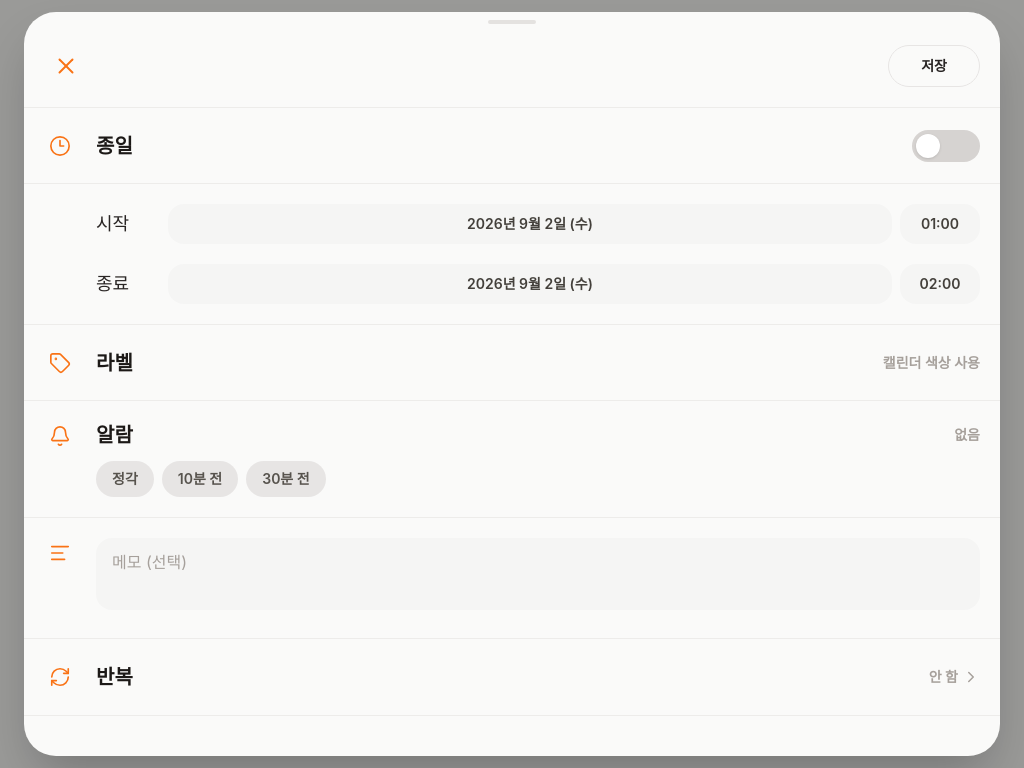
Test case: EventFormModal › 일반 일정의 반복 전환 확인을 취소하면 저장하지 않는다
(page scrolled)
Click the text "안 함": click(943, 677) top-left (929, 667), bottom-right (958, 687)
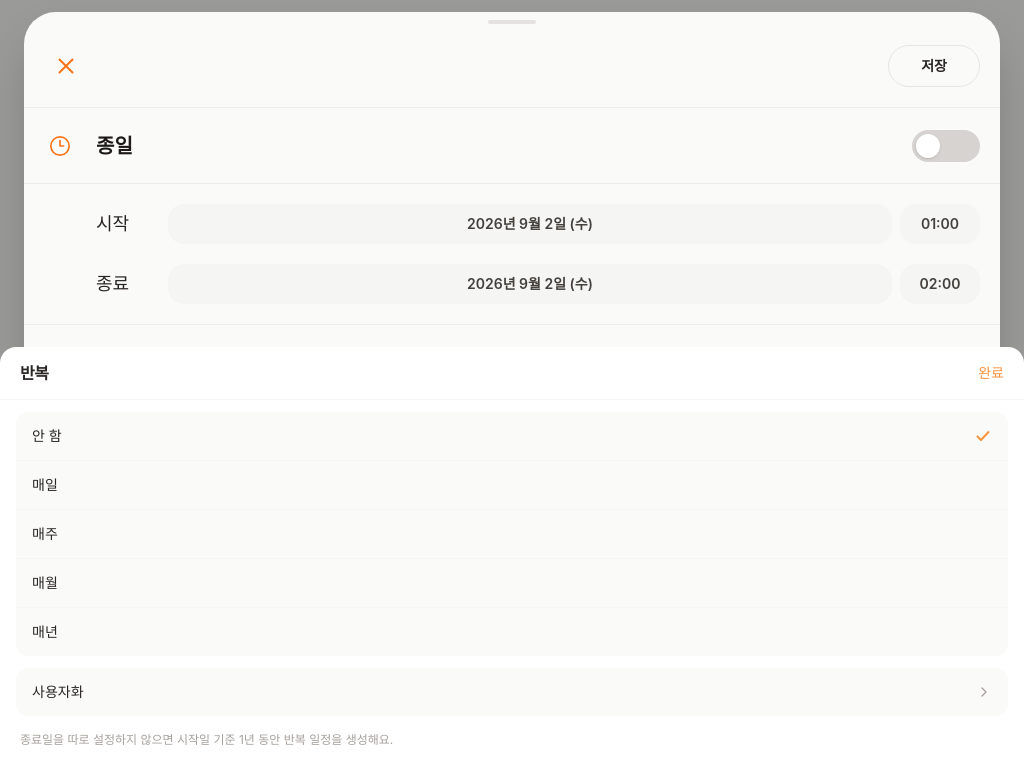
Click the button "매일": click(45, 484) top-left (16, 461), bottom-right (1008, 510)
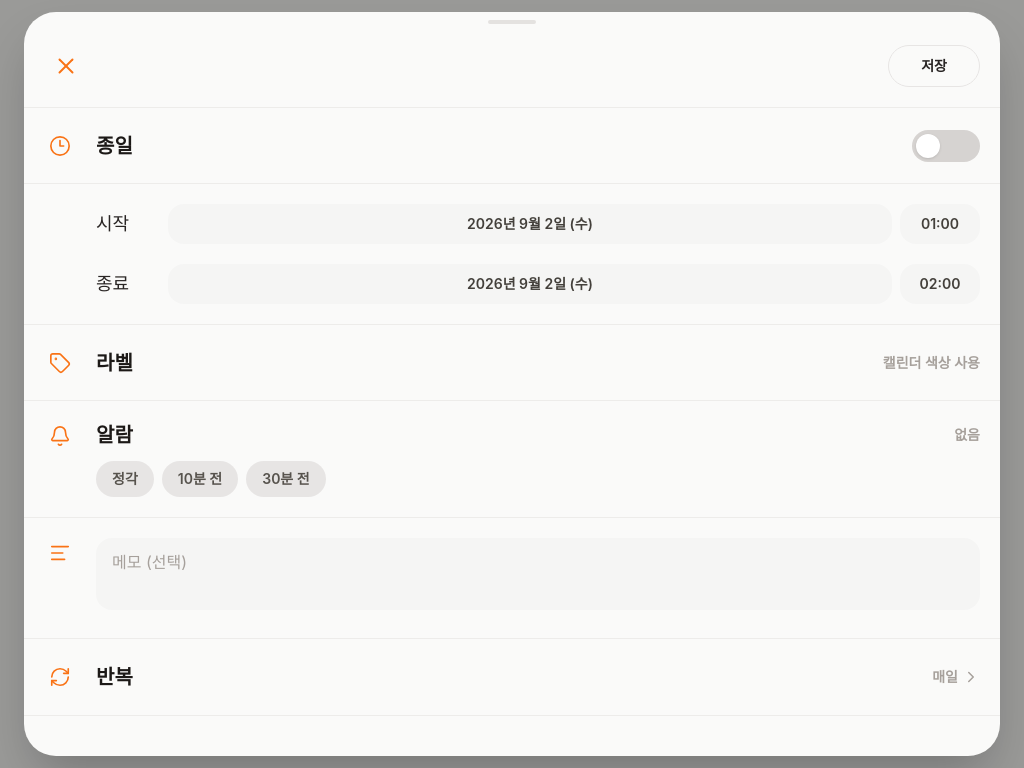
Click the button "저장": click(934, 66) top-left (888, 45), bottom-right (980, 87)
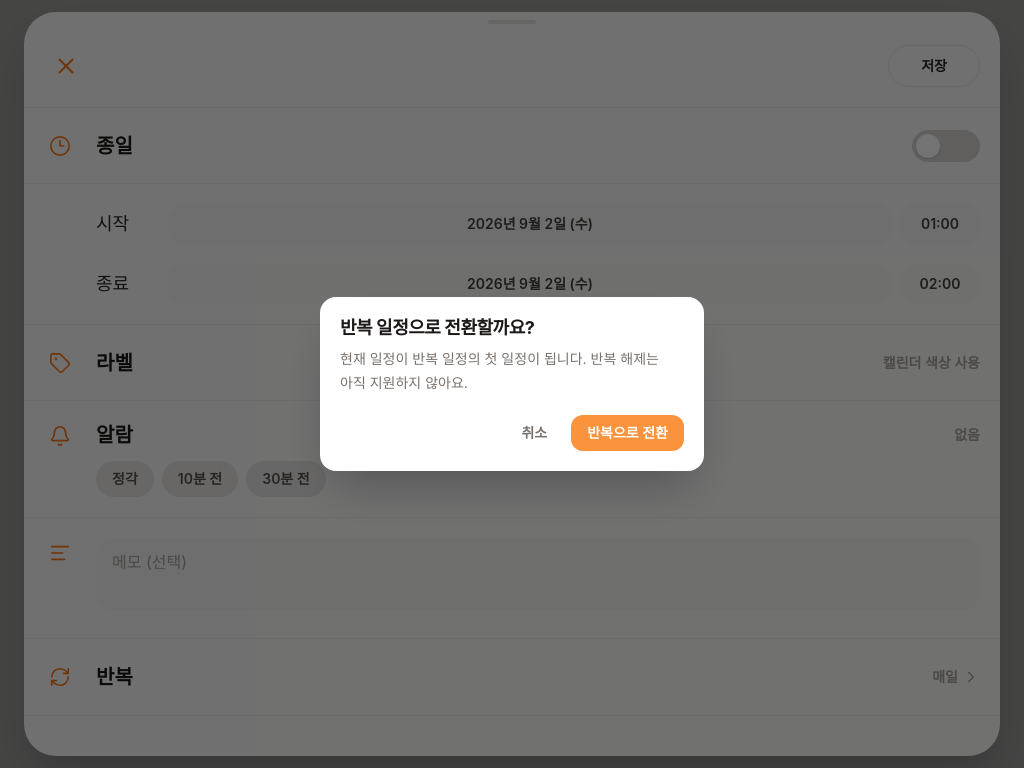
Click the button "취소": click(534, 433) top-left (505, 415), bottom-right (563, 451)
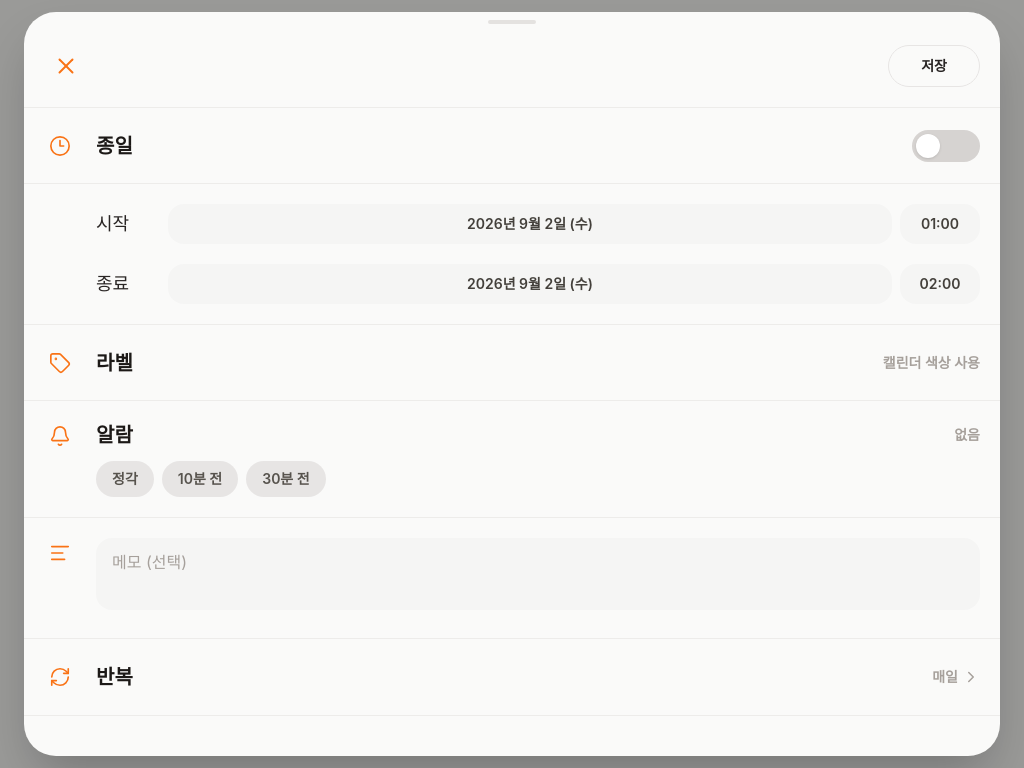
Expected: the dialog with test id "recurrence-conversion-confirm" is gone
